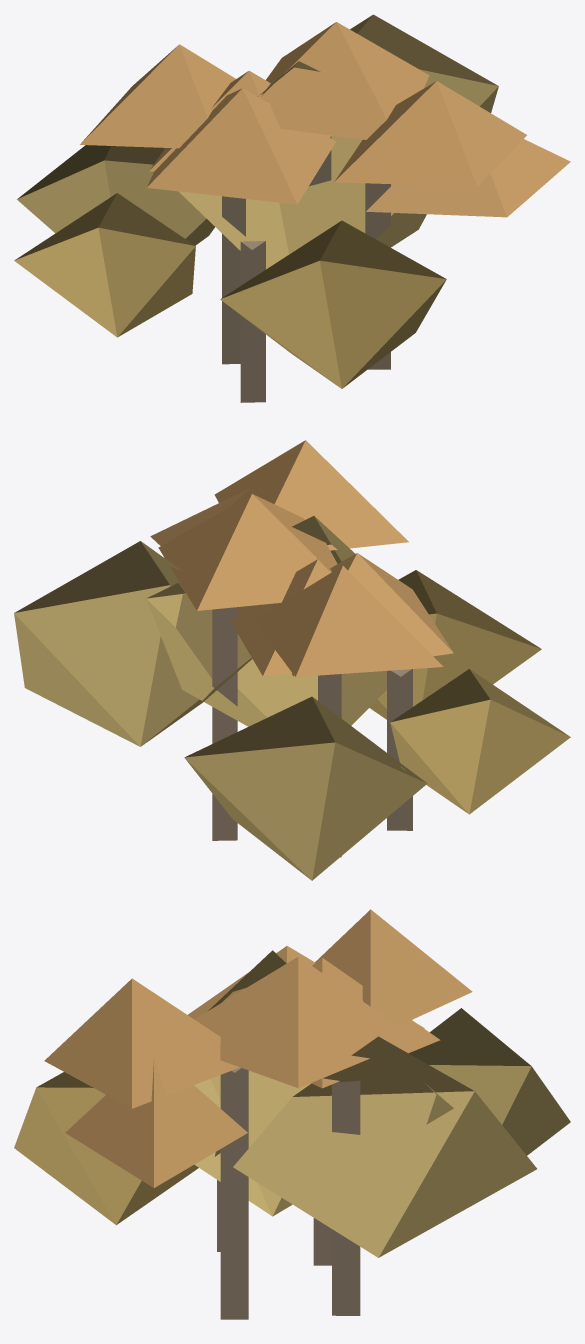
File: shrub.temp.hazel_bloom__autumn.glb
3 renders of one model, top to bottom at view 1: azimuth 30°, elevation 25°; view 2: azimuth 150°, elevation 25°; view 3: azimuth 270°, elevation 25°, orthographic. The views are drawn at different scales.
Visible parts, largest first — view 1: shrub.temp.hazel_bloom__autumn; view 2: shrub.temp.hazel_bloom__autumn; view 3: shrub.temp.hazel_bloom__autumn.
Part boxes in pixels (bbox=[...]): shrub.temp.hazel_bloom__autumn: bbox=[14, 14, 570, 402]; shrub.temp.hazel_bloom__autumn: bbox=[14, 440, 570, 880]; shrub.temp.hazel_bloom__autumn: bbox=[14, 909, 570, 1319].
Bounding box in the file's own units: 2.49 × 1.62 × 2.27.
